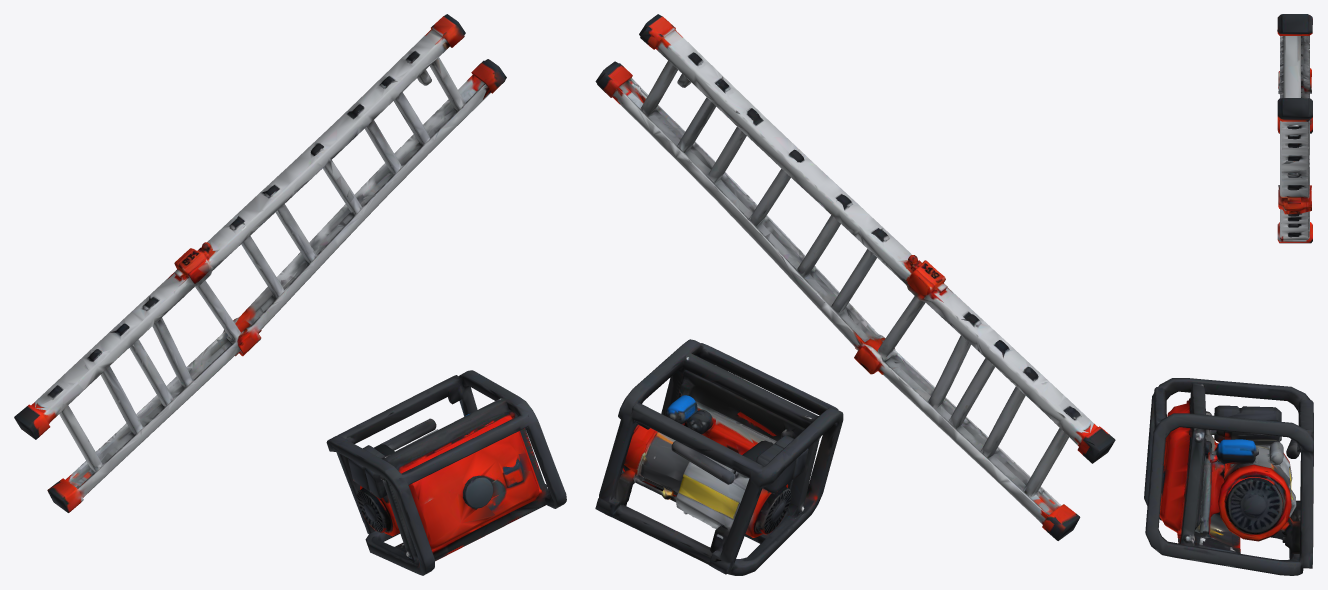
File: lestnica_dga.glb
The picture shows the model from 3 angles, left to right: view 1: azimuth 30°, elevation 25°; view 2: azimuth 150°, elevation 25°; view 3: azimuth 270°, elevation 25°; orthographic projection. The views are drawn at different scales.
Visible parts, largest first — view 1: lestnica_dga; view 2: lestnica_dga; view 3: lestnica_dga.
Boxes of the visible parts, box(x1,y1,x2,y2) form: lestnica_dga: box(14, 14, 566, 575); lestnica_dga: box(595, 14, 1115, 575); lestnica_dga: box(1144, 14, 1313, 575).
Size of the model in its own units: 2.24 by 2.23 by 0.6.
Materials: 1 (1 with a texture image).
